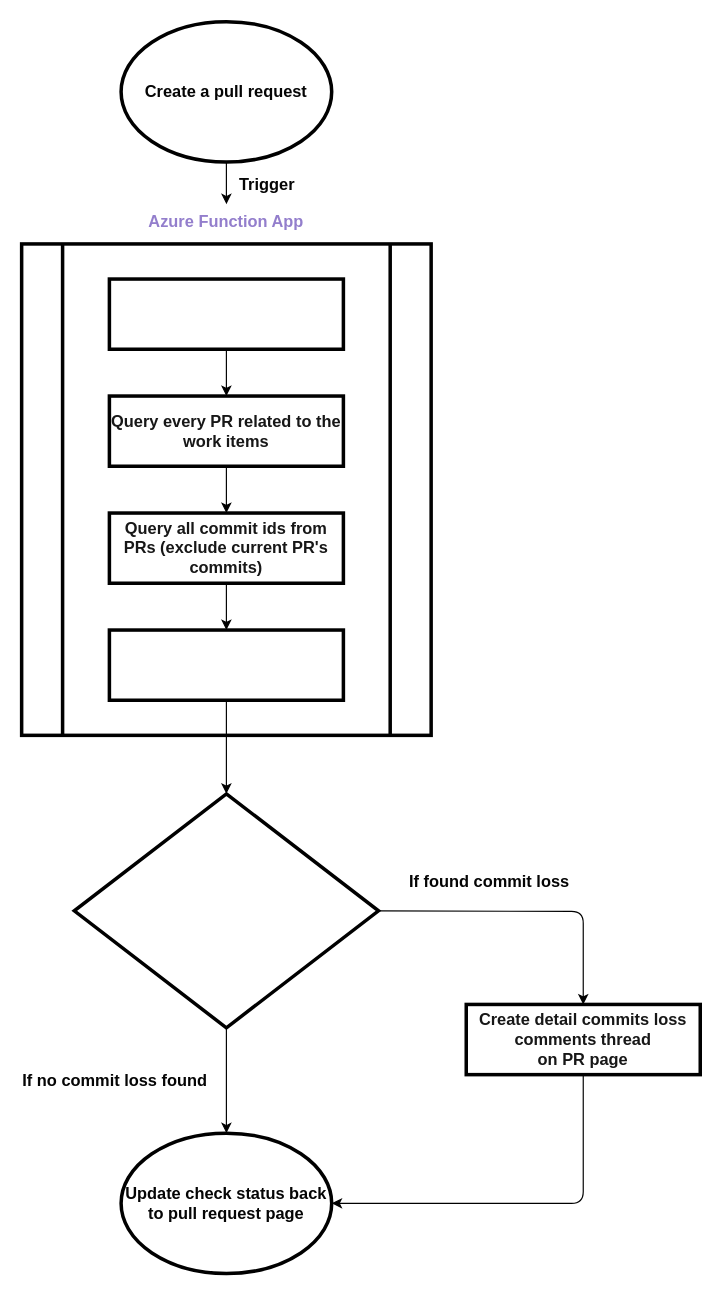
The diagram is 722 pixels wide and 1295 high, and some of its shapes have lost their labels. Each missing label, with the centre of its shape:
"Check if there are missing any work-item-related commits from target branches" goes at point (226, 910).
"Query all commit ids from target branches" goes at point (226, 664).
"Query work items from pull request Id" goes at point (226, 313).
